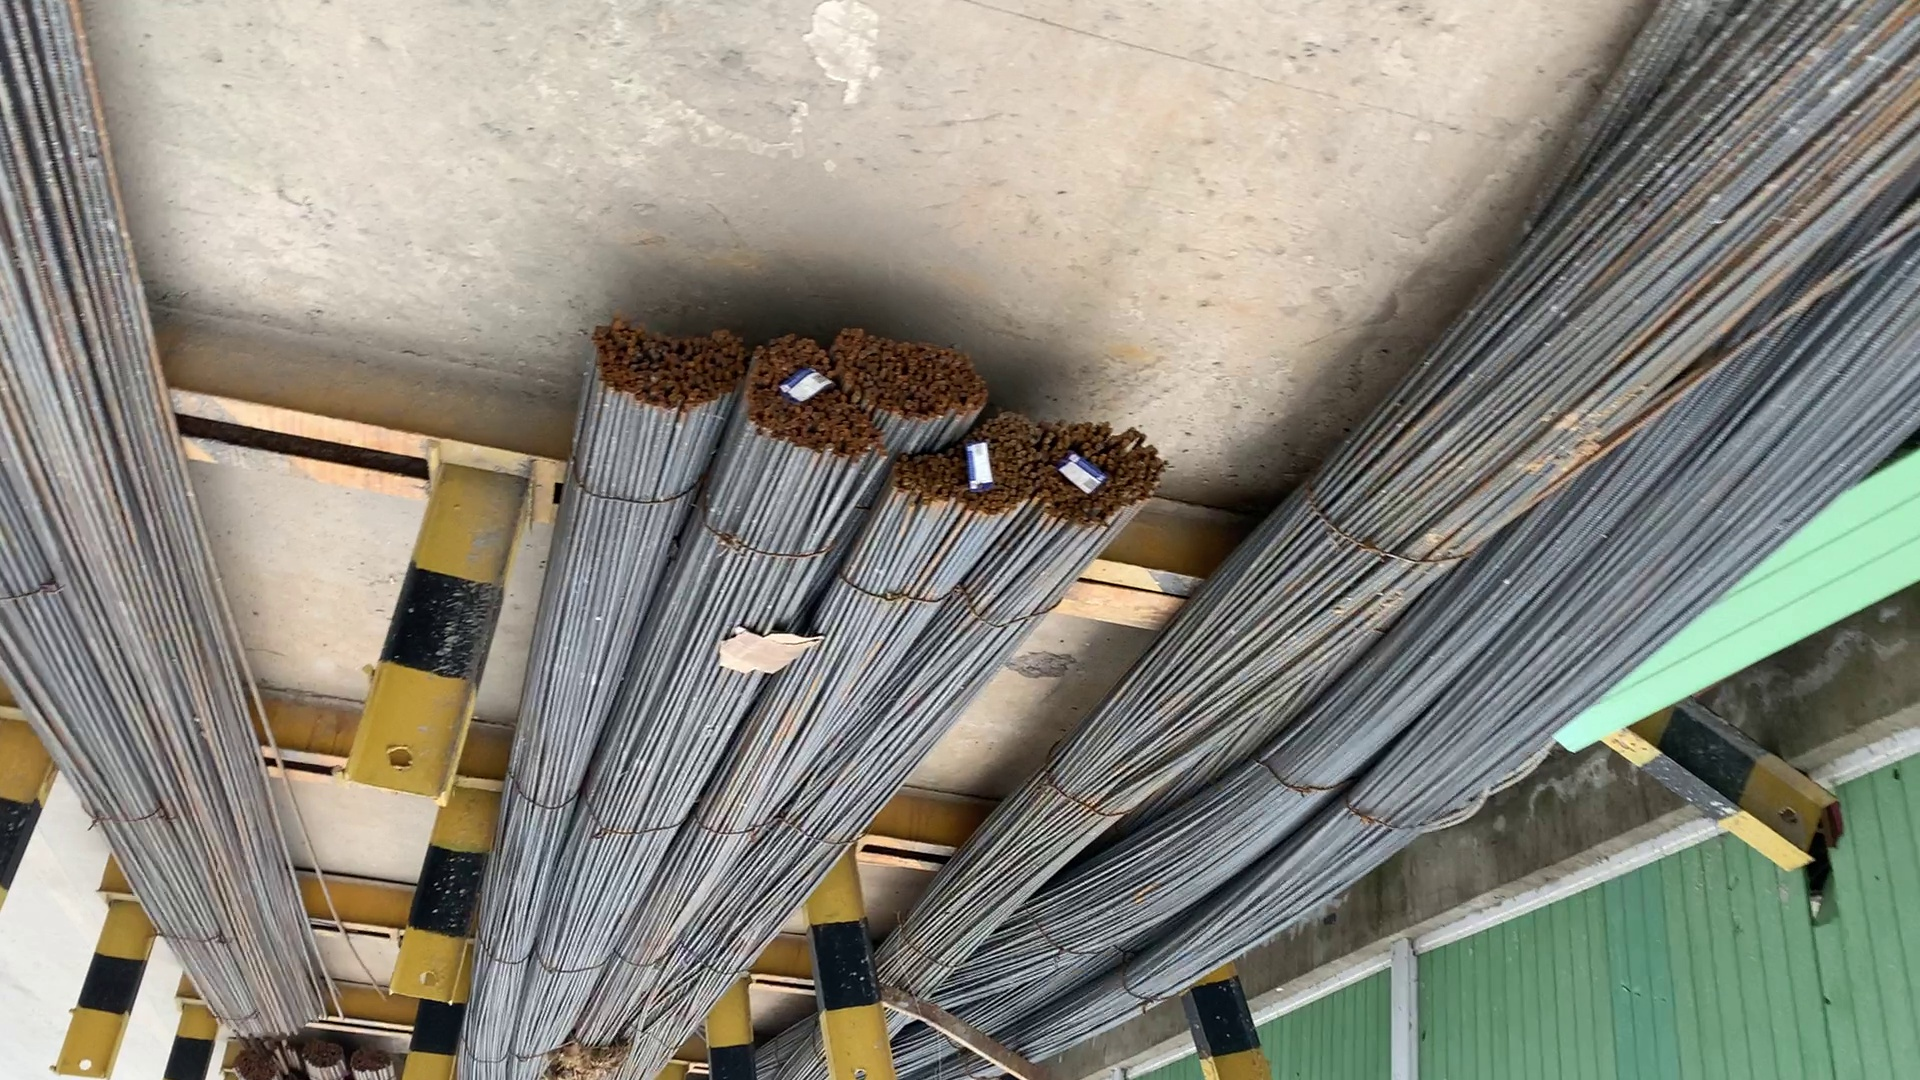rebar: (749, 338, 872, 475), (588, 316, 738, 414), (843, 328, 984, 430), (1042, 423, 1176, 524), (897, 425, 1039, 516)
